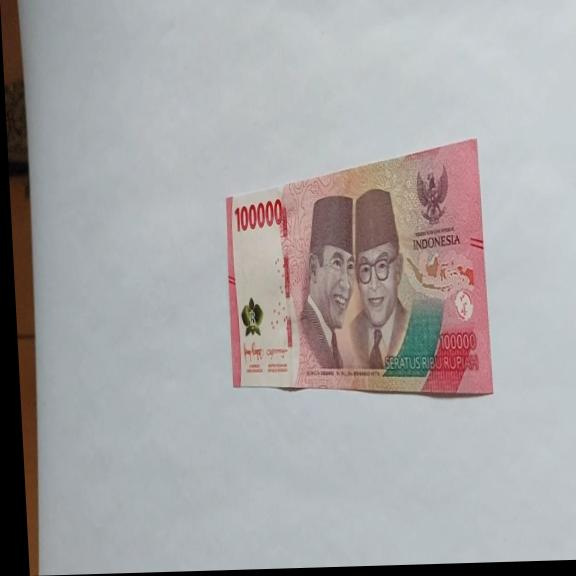Kertas: (220, 137, 493, 403), (233, 197, 284, 232)
